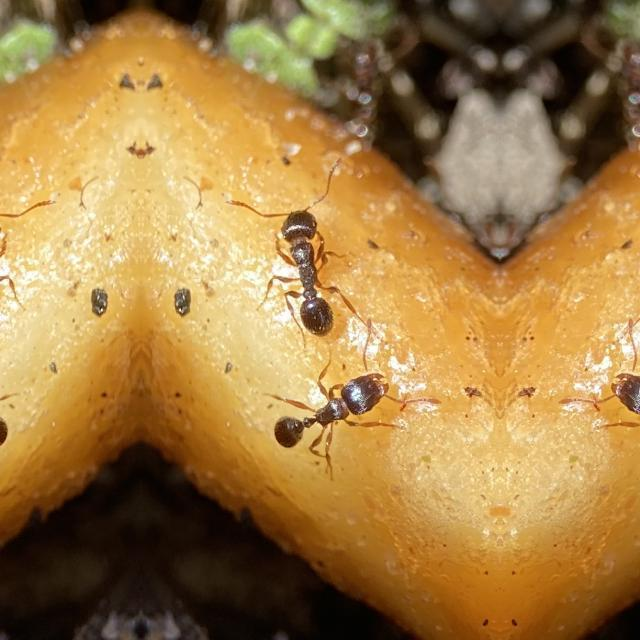Tetramorium: (241, 174, 369, 363), (258, 347, 427, 467), (572, 347, 640, 467), (0, 173, 38, 362)
